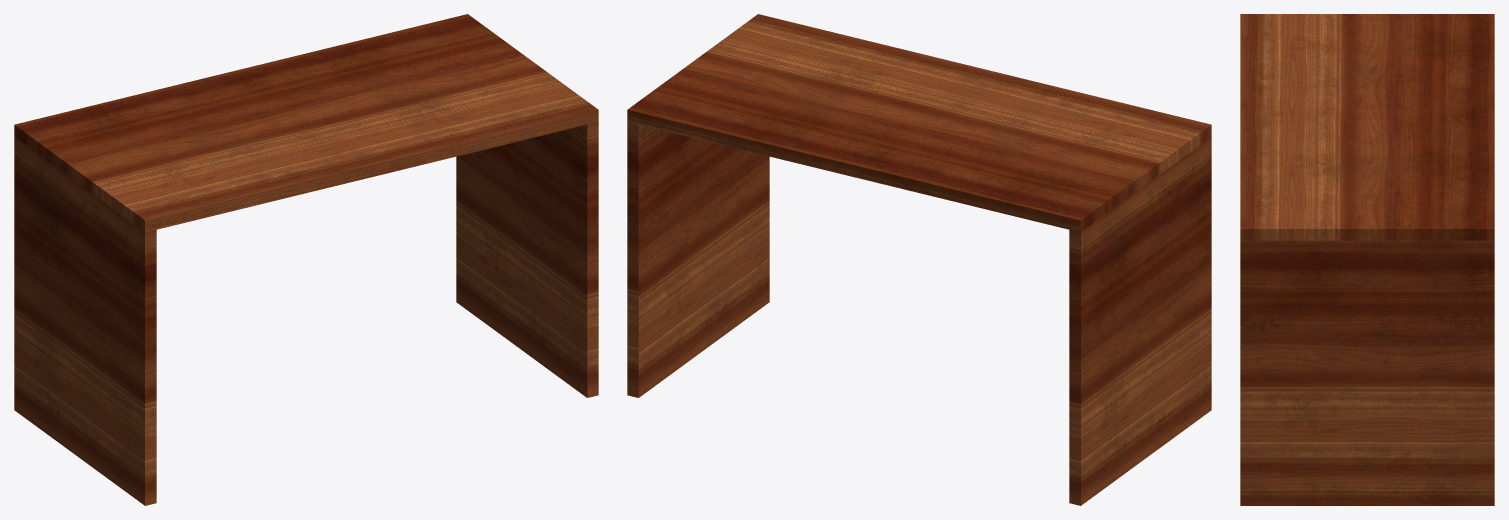
File: table.glb
The picture shows the model from 3 angles, left to right: view 1: azimuth 30°, elevation 25°; view 2: azimuth 150°, elevation 25°; view 3: azimuth 270°, elevation 25°; orthographic projection. The views are drawn at different scales.
Parts seen in each view (by area): view 1: table2wood:polySurface1; view 2: table2wood:polySurface1; view 3: table2wood:polySurface1.
Part boxes in pixels (x1,y1,x2,y2): table2wood:polySurface1: (14, 14, 598, 505); table2wood:polySurface1: (627, 14, 1211, 505); table2wood:polySurface1: (1240, 14, 1494, 505).
Size of the model in its own units: 2 by 1.2 by 1.
1 material, 1 textured.
